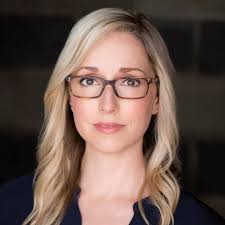white_female: (53, 45, 171, 165)
